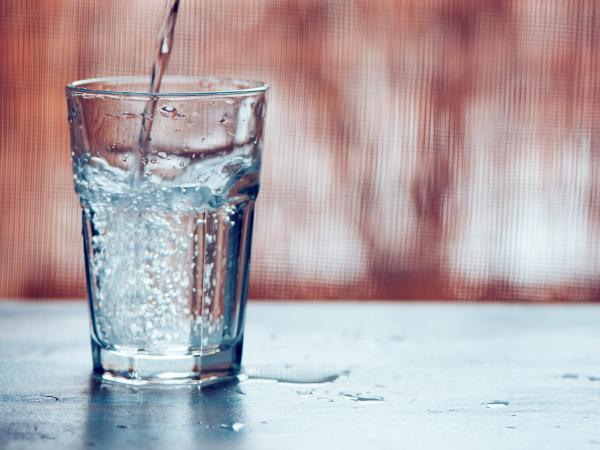glass of water: (54, 67, 267, 397)
